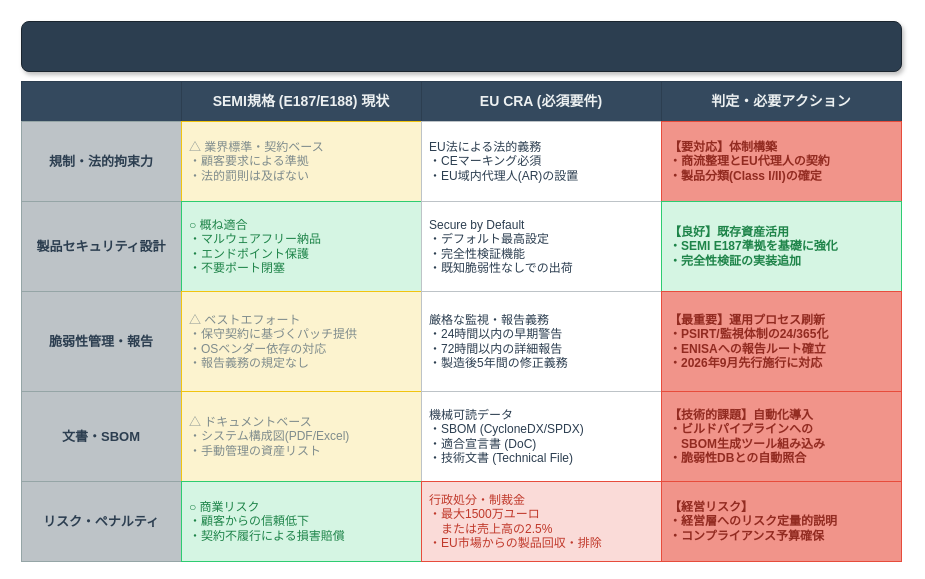
This 925x579 diagram has some shape labels left out. Each missing label, with the centre of its shape:
"EU CRA vs SEMI規格(E187/E188) コンプライアンス比較マトリクス" goes at (x=462, y=47).
"評価軸" goes at (x=101, y=101).
